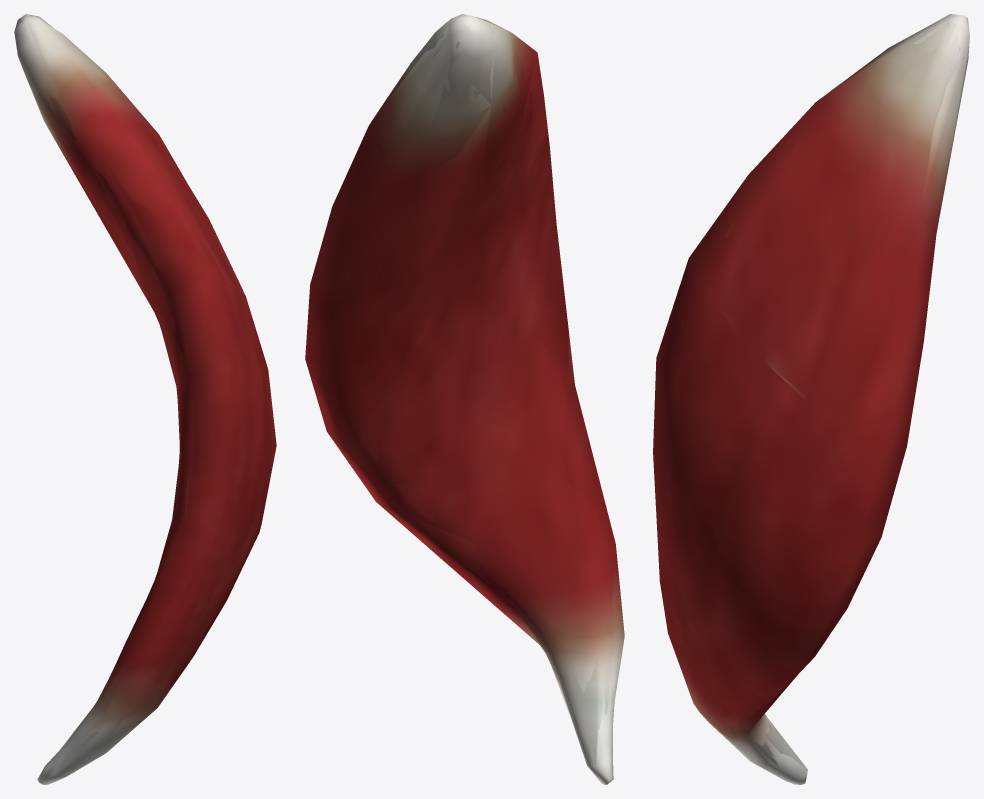
Rendered from L Deltoideus Acromialis.fbx.
3 views of the same model, side by side, from view 1: azimuth 30°, elevation 25°; view 2: azimuth 150°, elevation 25°; view 3: azimuth 270°, elevation 25° (orthographic). The views are drawn at different scales.
Visible parts, largest first — view 1: L Deltoideus Acromialis, L Deltoideus Acromialis low, L Deltoideus Acromialis high; view 2: L Deltoideus Acromialis, L Deltoideus Acromialis low, L Deltoideus Acromialis high; view 3: L Deltoideus Acromialis, L Deltoideus Acromialis low, L Deltoideus Acromialis high.
Part boxes in pixels (<box>): L Deltoideus Acromialis: <box>14,14,276,784</box>; L Deltoideus Acromialis low: <box>18,14,264,777</box>; L Deltoideus Acromialis high: <box>21,22,265,780</box>; L Deltoideus Acromialis: <box>305,14,624,784</box>; L Deltoideus Acromialis low: <box>306,14,624,772</box>; L Deltoideus Acromialis high: <box>323,25,614,781</box>; L Deltoideus Acromialis: <box>653,14,969,784</box>; L Deltoideus Acromialis low: <box>658,14,969,768</box>; L Deltoideus Acromialis high: <box>668,22,960,782</box>.
Bounding box in the file's own units: 1.08 × 3 × 1.08.
